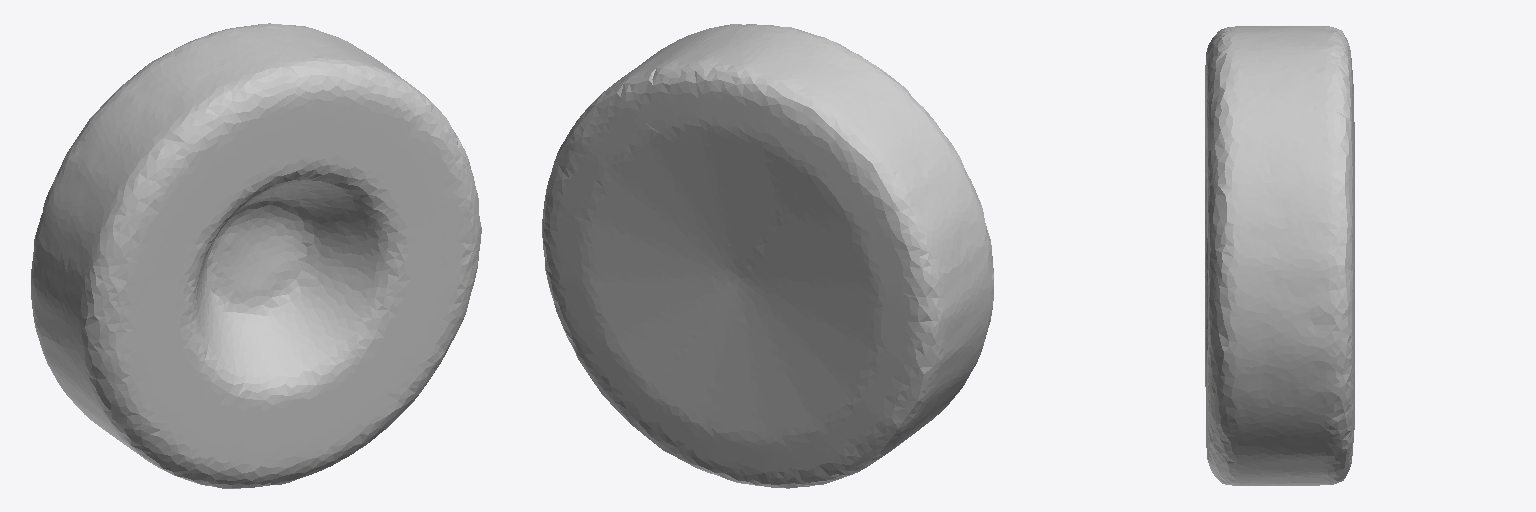
Rendered from Amulet_July_Lobe_28.obj.
3 views of the same model, side by side, from view 1: azimuth 30°, elevation 25°; view 2: azimuth 150°, elevation 25°; view 3: azimuth 270°, elevation 25° (orthographic).
Size of the model in its own units: 28.06 by 27.99 by 9.17.